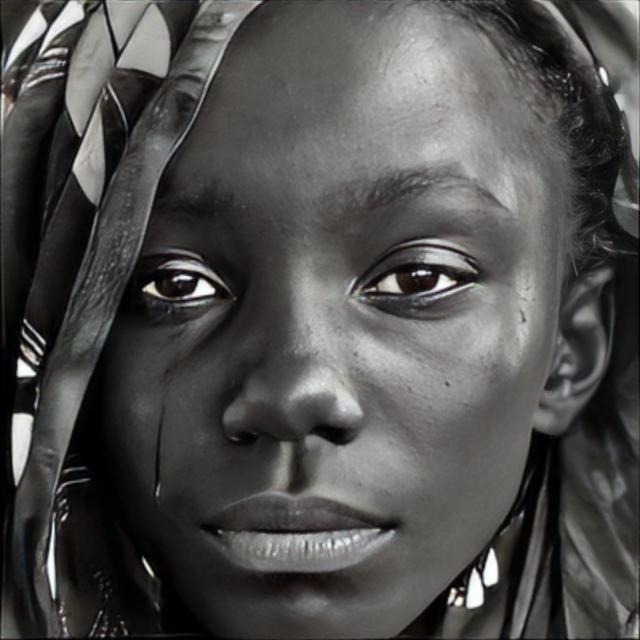sad: (81, 1, 565, 640)
